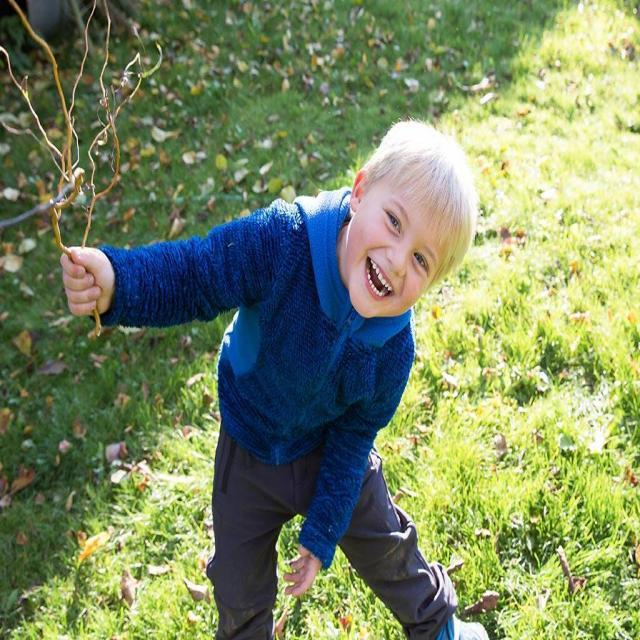non-dog: (58, 115, 489, 640)
